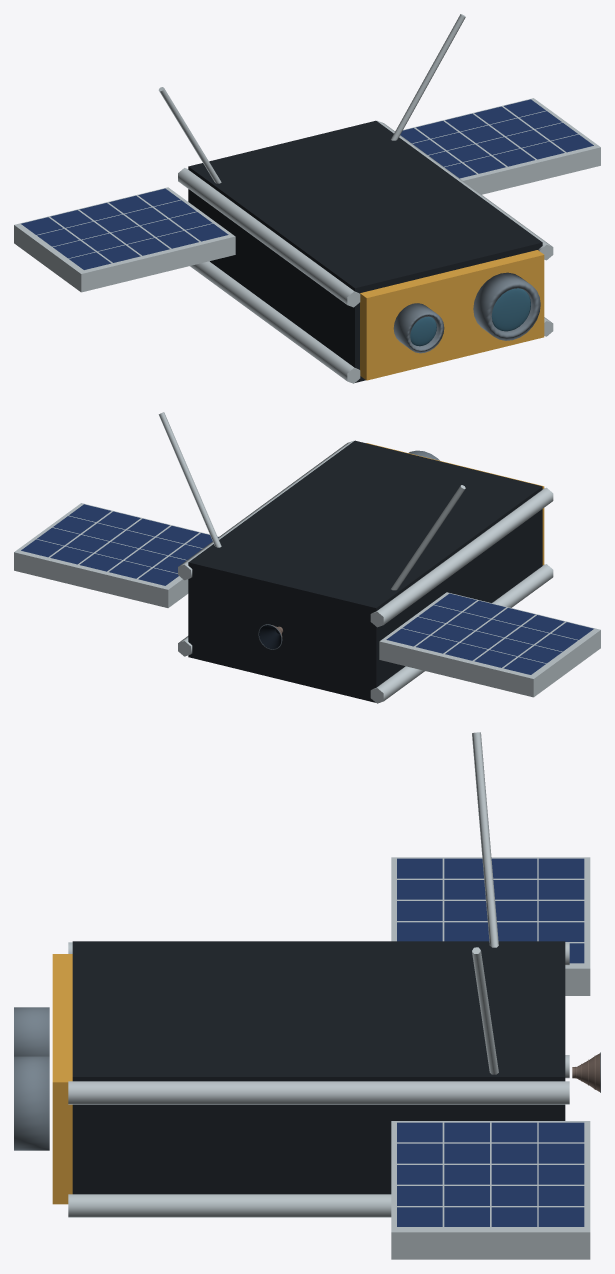
Rendered from liciacube.glb.
The picture shows the model from 3 angles, top to bottom: view 1: azimuth 30°, elevation 25°; view 2: azimuth 150°, elevation 25°; view 3: azimuth 270°, elevation 25°; orthographic projection. The views are drawn at different scales.
Visible parts, largest first — view 1: liciacube.mesh_Carbon_composite, liciacube.mesh_Gold_thermal_insulation, liciacube.wing_01.panel.mesh_Indigo_solar_cells, liciacube.wing_02.panel.mesh_Indigo_solar_cells, liciacube.mesh_Satin_aluminum, liciacube.wing_01.panel.mesh_Satin_aluminum, liciacube.wing_02.panel.mesh_Satin_aluminum, liciacube.leia.mesh_Machined_steel, liciacube.luke.mesh_Machined_steel, liciacube.leia.lens.mesh_Coated_optical_glass, liciacube.antenna_02.mesh_Satin_aluminum, liciacube.antenna_01.mesh_Satin_aluminum (+1 smaller); view 2: liciacube.mesh_Carbon_composite, liciacube.wing_01.panel.mesh_Indigo_solar_cells, liciacube.wing_02.panel.mesh_Indigo_solar_cells, liciacube.wing_01.panel.mesh_Satin_aluminum, liciacube.mesh_Satin_aluminum, liciacube.wing_02.panel.mesh_Satin_aluminum, liciacube.antenna_02.mesh_Satin_aluminum, liciacube.antenna_01.mesh_Satin_aluminum, liciacube.cold_gas_nozzle.bell.mesh_Shadowed_interior; view 3: liciacube.mesh_Carbon_composite, liciacube.mesh_Satin_aluminum, liciacube.wing_02.panel.mesh_Indigo_solar_cells, liciacube.wing_01.panel.mesh_Indigo_solar_cells, liciacube.wing_02.panel.mesh_Satin_aluminum, liciacube.mesh_Gold_thermal_insulation, liciacube.wing_01.panel.mesh_Satin_aluminum, liciacube.leia.mesh_Machined_steel, liciacube.antenna_01.mesh_Satin_aluminum, liciacube.luke.mesh_Machined_steel, liciacube.antenna_02.mesh_Satin_aluminum, liciacube.cold_gas_nozzle.bell.mesh_Heat-stained_alloy.
Boxes of the visible parts, bbox=[...] form: liciacube.mesh_Carbon_composite: bbox=[188, 120, 542, 382]; liciacube.mesh_Gold_thermal_insulation: bbox=[360, 250, 544, 380]; liciacube.wing_01.panel.mesh_Indigo_solar_cells: bbox=[21, 188, 228, 269]; liciacube.wing_02.panel.mesh_Indigo_solar_cells: bbox=[400, 99, 593, 178]; liciacube.mesh_Satin_aluminum: bbox=[178, 120, 553, 383]; liciacube.wing_01.panel.mesh_Satin_aluminum: bbox=[14, 187, 235, 292]; liciacube.wing_02.panel.mesh_Satin_aluminum: bbox=[403, 98, 600, 194]; liciacube.leia.mesh_Machined_steel: bbox=[473, 272, 540, 340]; liciacube.luke.mesh_Machined_steel: bbox=[393, 303, 444, 353]; liciacube.leia.lens.mesh_Coated_optical_glass: bbox=[491, 288, 530, 331]; liciacube.antenna_02.mesh_Satin_aluminum: bbox=[391, 14, 465, 140]; liciacube.antenna_01.mesh_Satin_aluminum: bbox=[158, 87, 221, 183]; liciacube.mesh_Carbon_composite: bbox=[188, 440, 542, 702]; liciacube.wing_01.panel.mesh_Indigo_solar_cells: bbox=[386, 593, 593, 674]; liciacube.wing_02.panel.mesh_Indigo_solar_cells: bbox=[21, 504, 218, 585]; liciacube.wing_01.panel.mesh_Satin_aluminum: bbox=[379, 592, 600, 697]; liciacube.mesh_Satin_aluminum: bbox=[178, 440, 553, 703]; liciacube.wing_02.panel.mesh_Satin_aluminum: bbox=[14, 503, 218, 607]; liciacube.antenna_02.mesh_Satin_aluminum: bbox=[158, 412, 221, 547]; liciacube.antenna_01.mesh_Satin_aluminum: bbox=[391, 485, 465, 590]; liciacube.cold_gas_nozzle.bell.mesh_Shadowed_interior: bbox=[259, 625, 281, 649]; liciacube.mesh_Carbon_composite: bbox=[72, 941, 565, 1194]; liciacube.mesh_Satin_aluminum: bbox=[68, 942, 569, 1217]; liciacube.wing_02.panel.mesh_Indigo_solar_cells: bbox=[397, 1122, 584, 1226]; liciacube.wing_01.panel.mesh_Indigo_solar_cells: bbox=[397, 858, 584, 963]; liciacube.wing_02.panel.mesh_Satin_aluminum: bbox=[391, 1121, 590, 1259]; liciacube.mesh_Gold_thermal_insulation: bbox=[52, 954, 72, 1204]; liciacube.wing_01.panel.mesh_Satin_aluminum: bbox=[391, 857, 590, 995]; liciacube.leia.mesh_Machined_steel: bbox=[14, 1056, 49, 1150]; liciacube.antenna_01.mesh_Satin_aluminum: bbox=[472, 732, 498, 947]; liciacube.luke.mesh_Machined_steel: bbox=[14, 1007, 49, 1056]; liciacube.antenna_02.mesh_Satin_aluminum: bbox=[472, 947, 498, 1074]; liciacube.cold_gas_nozzle.bell.mesh_Heat-stained_alloy: bbox=[572, 1053, 600, 1091].
Size of the model in its own units: 0.62 by 0.2385 by 0.41.
